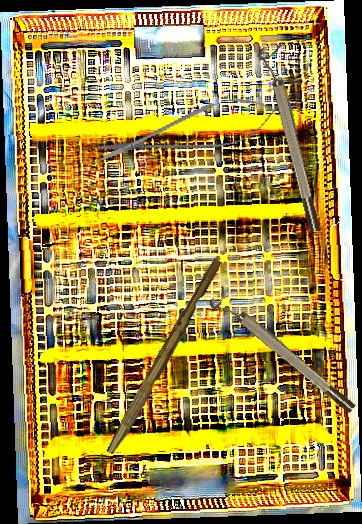Fixation Ring: (206, 285, 359, 422), (255, 43, 325, 236)
Micro Scissor: (87, 86, 284, 179)
Scalpel Handle: (105, 255, 224, 459)
